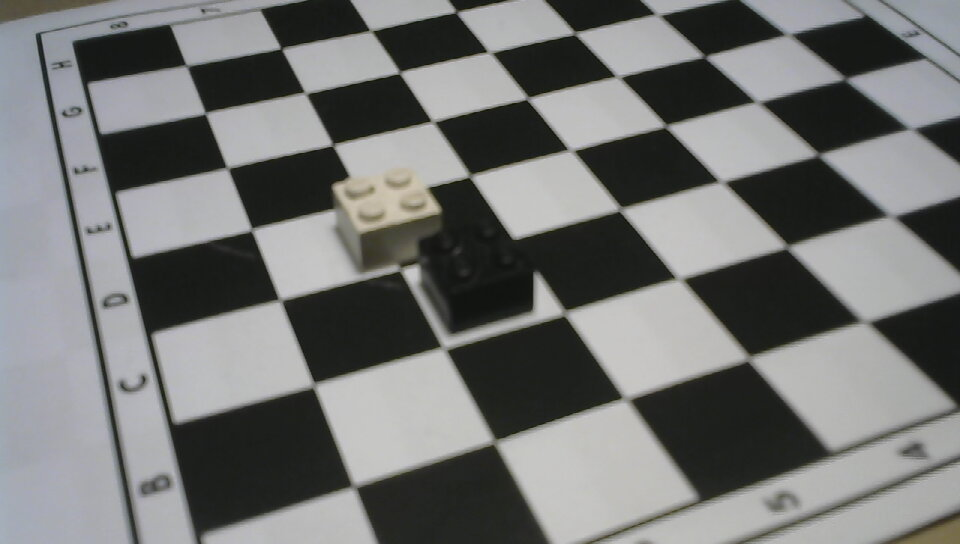bp: (413, 208, 539, 339)
